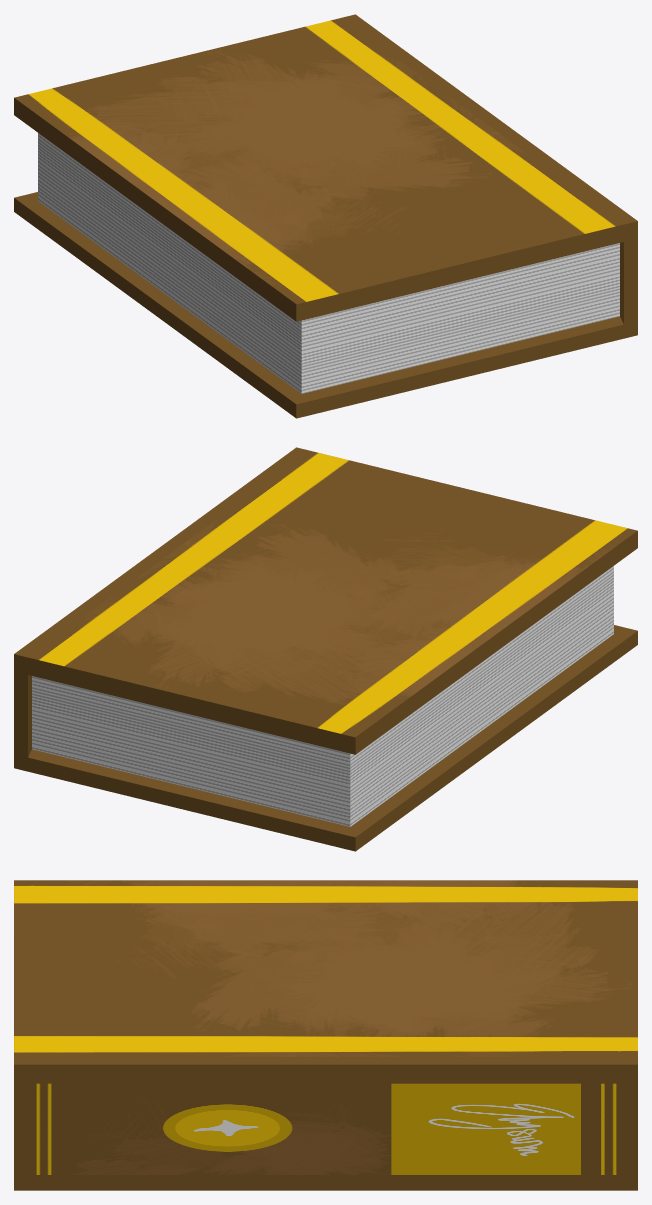
File: Book2.fbx
The picture shows the model from 3 angles, top to bottom: view 1: azimuth 30°, elevation 25°; view 2: azimuth 150°, elevation 25°; view 3: azimuth 270°, elevation 25°; orthographic projection. The views are drawn at different scales.
Visible parts, largest first — view 1: Cube; view 2: Cube; view 3: Cube.
Part boxes in pixels (box(x1,y1,x2,y2)): Cube: box(14, 14, 637, 418); Cube: box(14, 447, 637, 851); Cube: box(14, 880, 637, 1190).
Bounding box in the file's own units: 140 × 44.6 × 200.
Materials: 1 (1 with a texture image).
